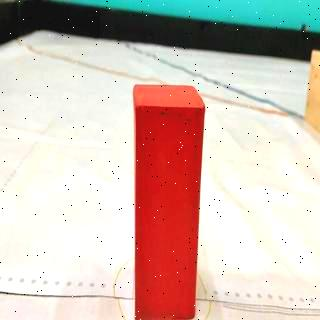redbox: (133, 83, 199, 320)
